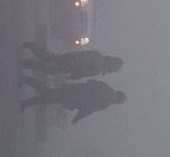person: (19, 78, 125, 124), (17, 38, 125, 82)
